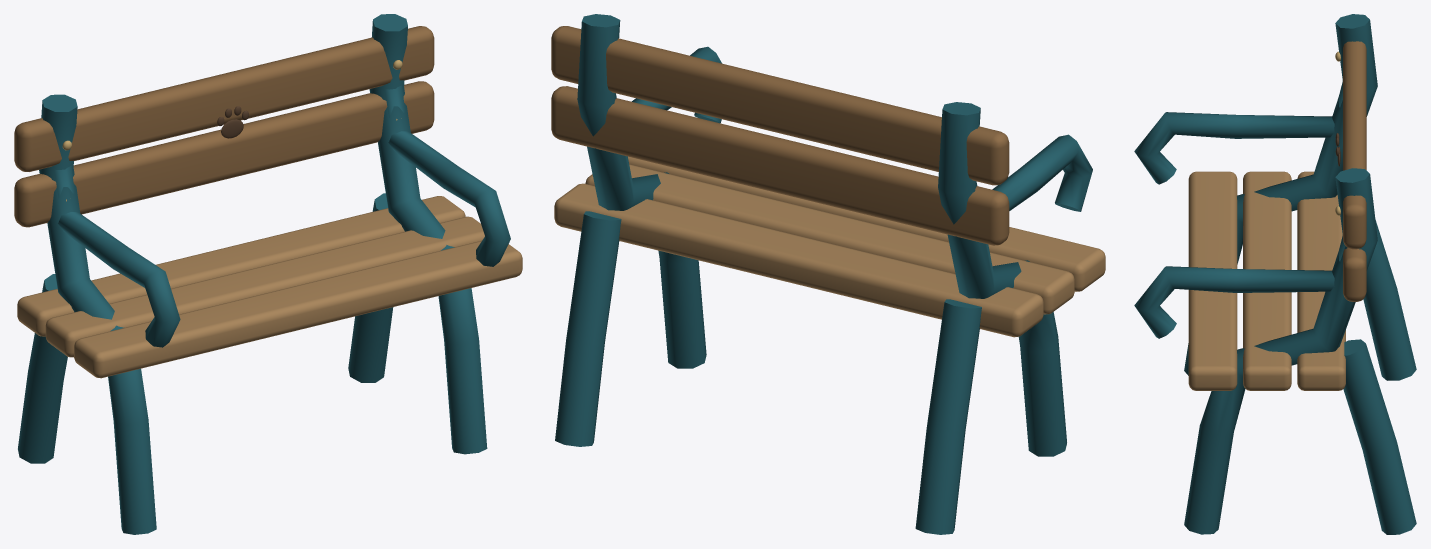
The model's file is harbor_bench_atelier.glb.
3 views of the same model, side by side, from view 1: azimuth 30°, elevation 25°; view 2: azimuth 150°, elevation 25°; view 3: azimuth 270°, elevation 25° (orthographic). The views are drawn at different scales.
Parts seen in each view (by area): view 1: harbor_bench_atelier__TaggedPainted_Bench_Matte, harbor_bench_atelier__Painted_Bench_Glaze; view 2: harbor_bench_atelier__TaggedPainted_Bench_Matte, harbor_bench_atelier__Painted_Bench_Glaze; view 3: harbor_bench_atelier__Painted_Bench_Glaze, harbor_bench_atelier__TaggedPainted_Bench_Matte.
Boxes of the visible parts, x1,y1,x2,y2 form: harbor_bench_atelier__TaggedPainted_Bench_Matte: [14, 26, 522, 378]; harbor_bench_atelier__Painted_Bench_Glaze: [18, 14, 510, 534]; harbor_bench_atelier__TaggedPainted_Bench_Matte: [551, 26, 1105, 337]; harbor_bench_atelier__Painted_Bench_Glaze: [555, 14, 1092, 534]; harbor_bench_atelier__Painted_Bench_Glaze: [1134, 14, 1416, 534]; harbor_bench_atelier__TaggedPainted_Bench_Matte: [1188, 41, 1366, 390].
Size of the model in its own units: 1.22 by 1.01 by 0.7279.
